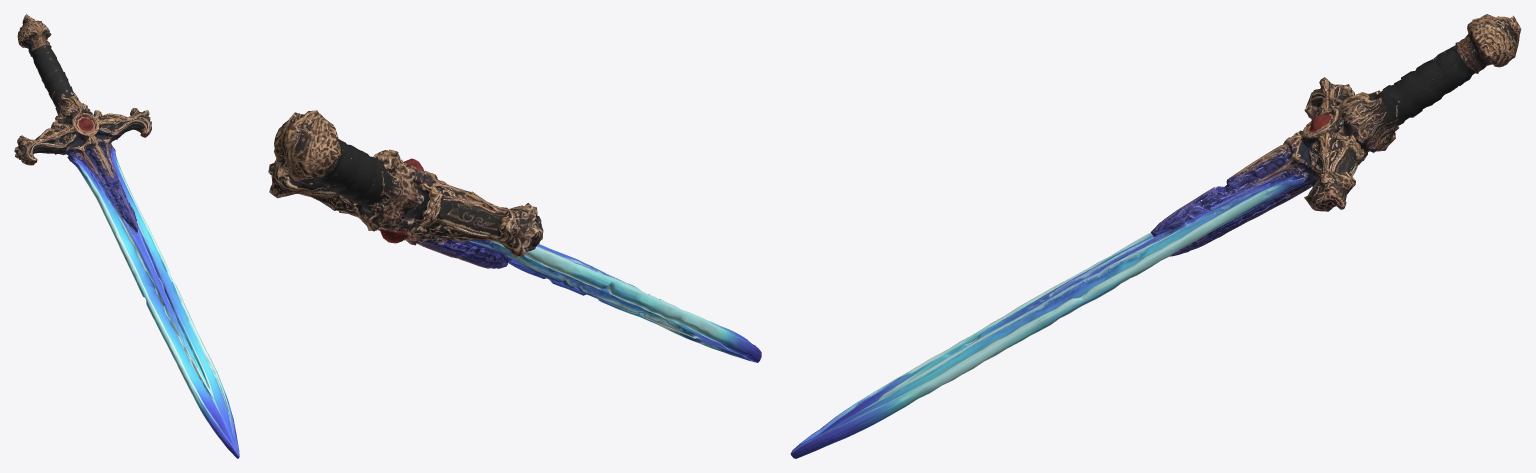
Rendered from tackilic.glb.
3 views of the same model, side by side, from view 1: azimuth 30°, elevation 25°; view 2: azimuth 150°, elevation 25°; view 3: azimuth 270°, elevation 25° (orthographic). The views are drawn at different scales.
Parts seen in each view (by area): view 1: tripo_node_d06bca24-0e8a-4e63-a8f0-b99a76f3d02f; view 2: tripo_node_d06bca24-0e8a-4e63-a8f0-b99a76f3d02f; view 3: tripo_node_d06bca24-0e8a-4e63-a8f0-b99a76f3d02f.
Part boxes in pixels (x1,y1,x2,y2): tripo_node_d06bca24-0e8a-4e63-a8f0-b99a76f3d02f: (14, 14, 239, 458); tripo_node_d06bca24-0e8a-4e63-a8f0-b99a76f3d02f: (268, 110, 761, 362); tripo_node_d06bca24-0e8a-4e63-a8f0-b99a76f3d02f: (790, 14, 1521, 458).
Bounding box in the file's own units: 0.3383 × 0.6695 × 0.9817.
1 material, 1 textured.
